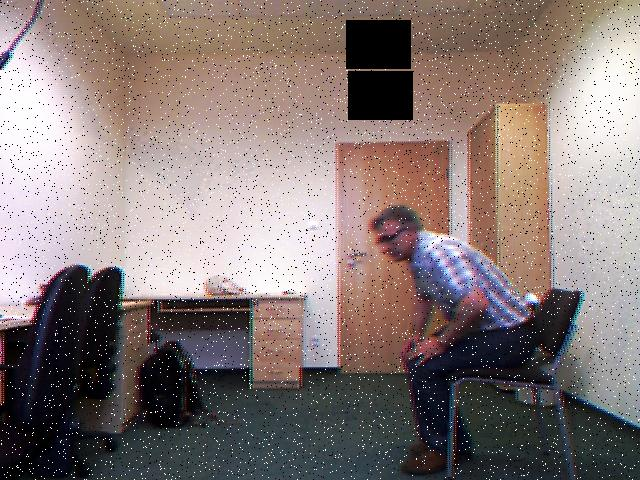sitting: (353, 205, 551, 480)
